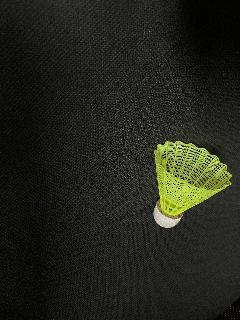shuttlecock: (153, 141, 231, 227)
